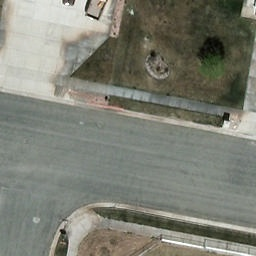car: (59, 0, 79, 6)
pickup: (83, 0, 118, 22)
